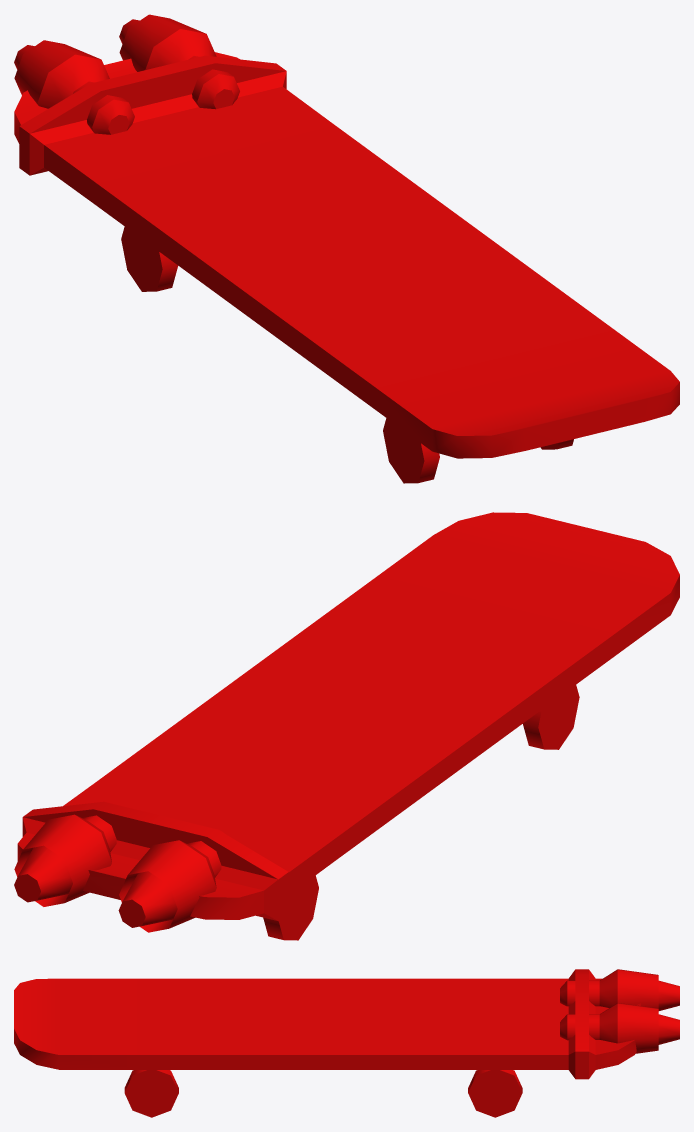
The model's file is MESH_Shredboard.fbx.
3 renders of one model, top to bottom at view 1: azimuth 30°, elevation 25°; view 2: azimuth 150°, elevation 25°; view 3: azimuth 270°, elevation 25°, orthographic. The views are drawn at different scales.
Parts seen in each view (by area): view 1: ShredBoardBase, Thruster2, Thruster1, Wheel2, Wheel3; view 2: ShredBoardBase, Thruster2, Thruster1, Wheel2, Wheel3; view 3: ShredBoardBase, Thruster1, Thruster2, Wheel1, Wheel.
Boxes of the visible parts, x1=… form: ShredBoardBase: x1=14, y1=52, x2=679, y2=458; Thruster2: x1=14, y1=40, x2=134, y2=134; Thruster1: x1=119, y1=14, x2=239, y2=109; Wheel2: x1=383, y1=418, x2=439, y2=483; Wheel3: x1=121, y1=226, x2=177, y2=291; ShredBoardBase: x1=17, y1=512, x2=679, y2=921; Thruster2: x1=118, y1=829, x2=222, y2=932; Thruster1: x1=14, y1=803, x2=116, y2=906; Wheel2: x1=523, y1=685, x2=579, y2=749; Wheel3: x1=263, y1=875, x2=318, y2=940; ShredBoardBase: x1=14, y1=969, x2=640, y2=1079; Thruster1: x1=560, y1=1003, x2=679, y2=1053; Thruster2: x1=560, y1=969, x2=679, y2=1010; Wheel1: x1=124, y1=1070, x2=178, y2=1117; Wheel: x1=468, y1=1070, x2=522, y2=1117.
Bounding box in the file's own units: 11.97 × 7.24 × 40.92.
